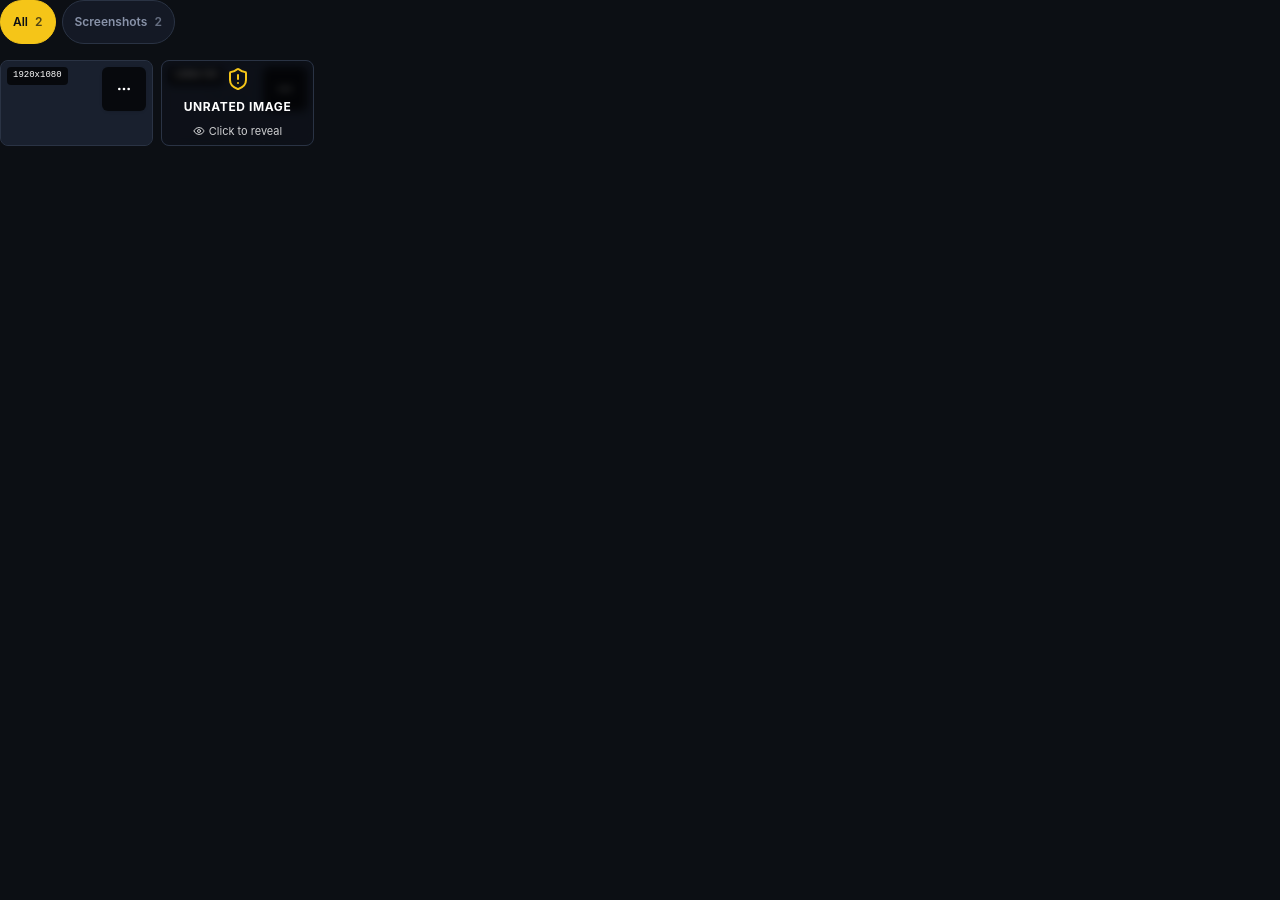
Test: MediaGallery branches › shows a non-collapsing animated skeleton when the lightbox opens
Click the button named "Open in lightbox": click(76, 103) [1,61,152,145]
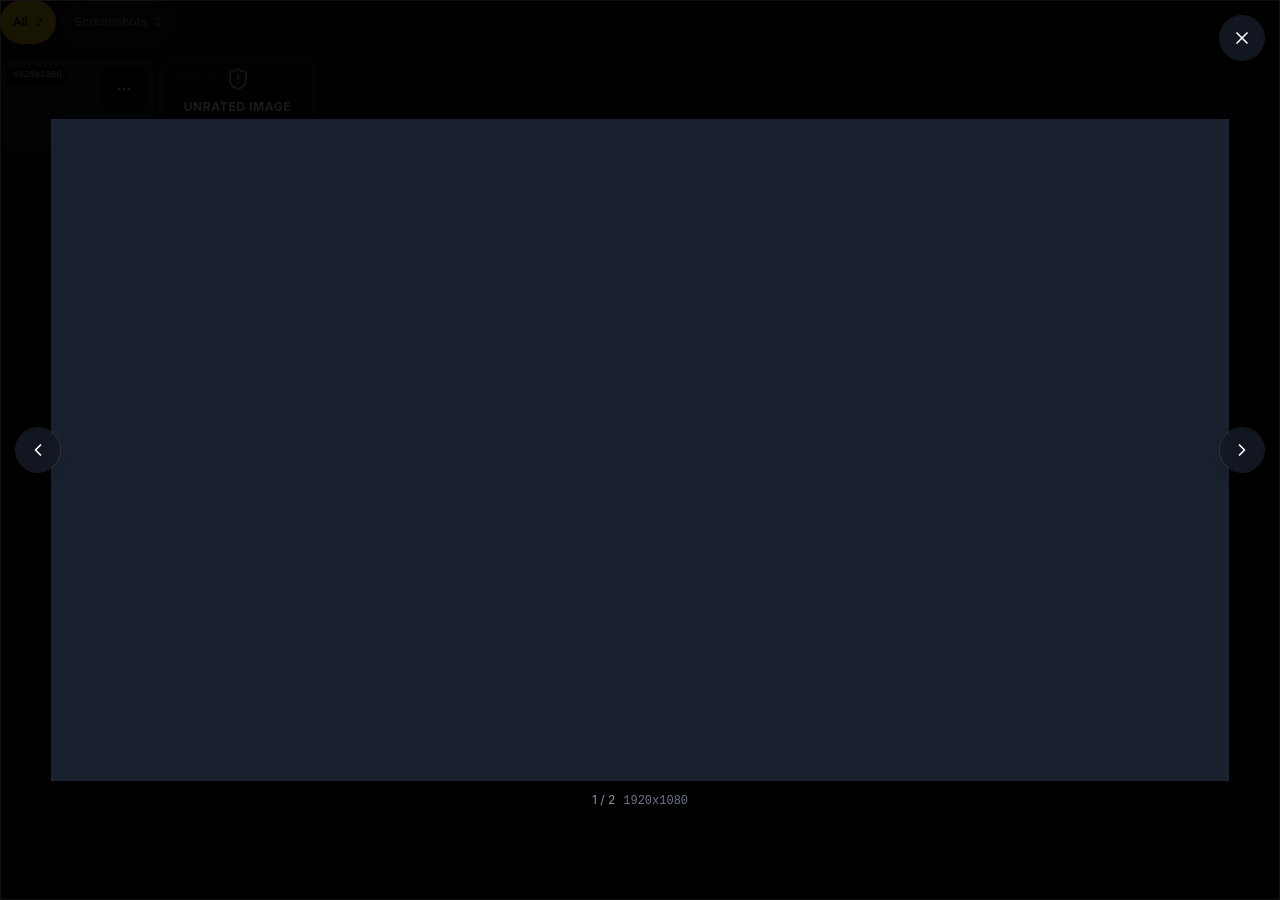
Check: the element showing "1 / 21920x1080" is shown
